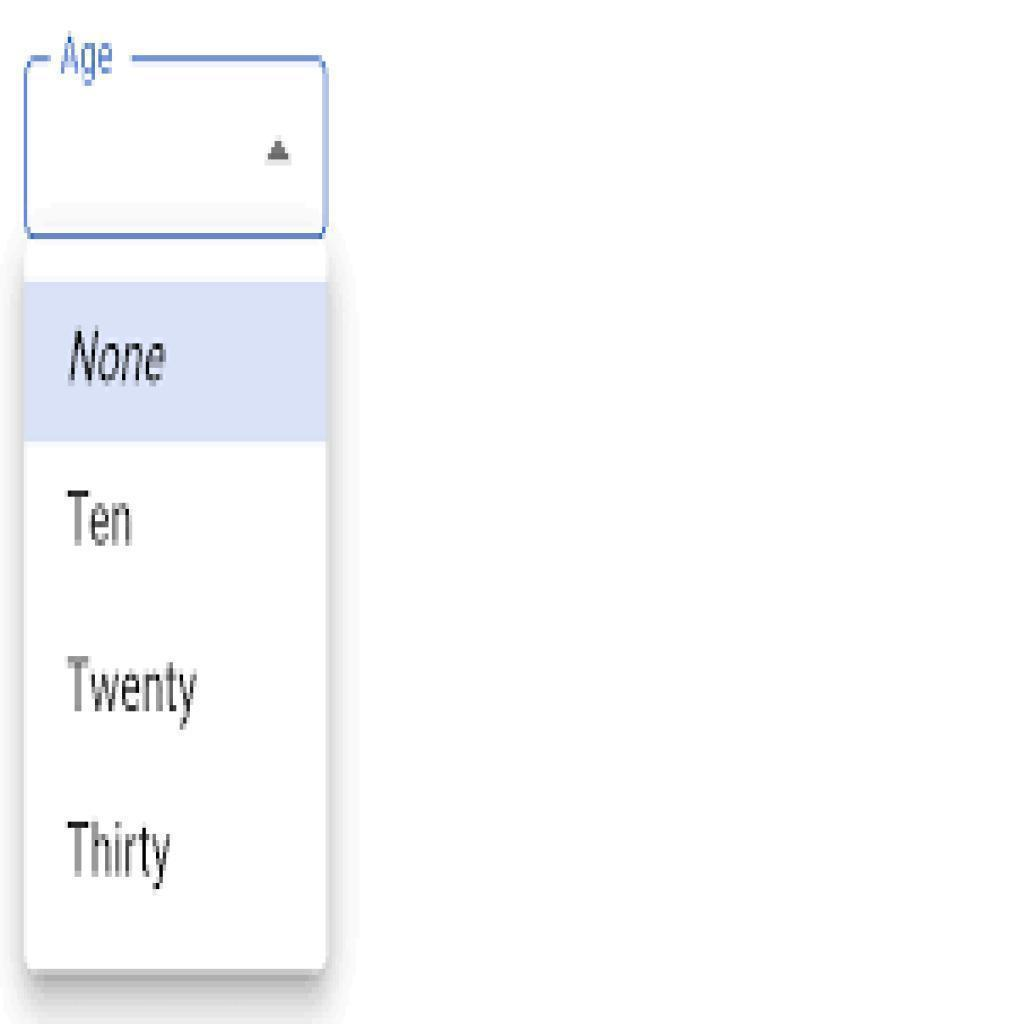dropdown: (26, 65, 326, 236)
